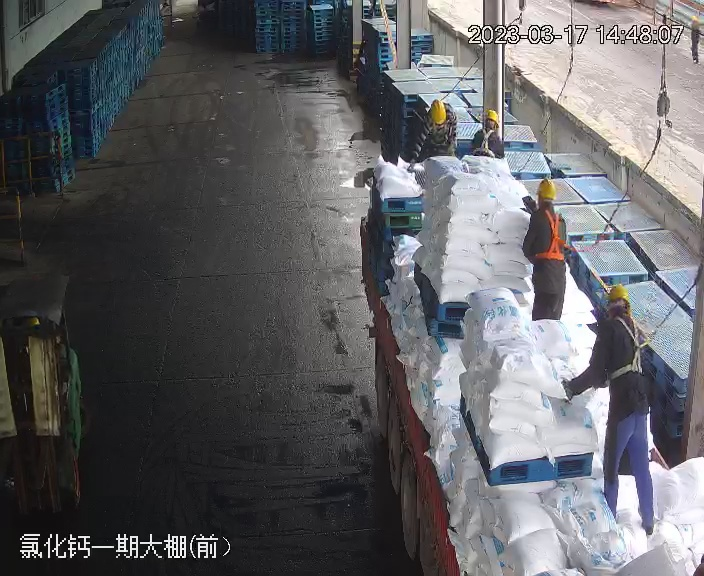belt: (522, 175, 572, 319), (605, 316, 654, 377), (531, 207, 573, 258), (471, 108, 503, 150), (478, 129, 499, 155), (428, 121, 452, 141)
head: (588, 282, 644, 349), (525, 177, 567, 233), (414, 98, 458, 149), (470, 108, 503, 148), (426, 99, 449, 127)
helmet: (605, 282, 631, 307), (428, 99, 448, 125), (535, 177, 557, 200), (483, 108, 500, 126)
people: (560, 276, 660, 535), (521, 175, 571, 321), (408, 98, 460, 160)
truck: (351, 203, 699, 576)
